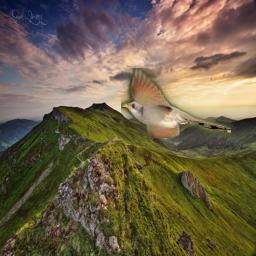Cuckoo: (121, 68, 231, 138)
